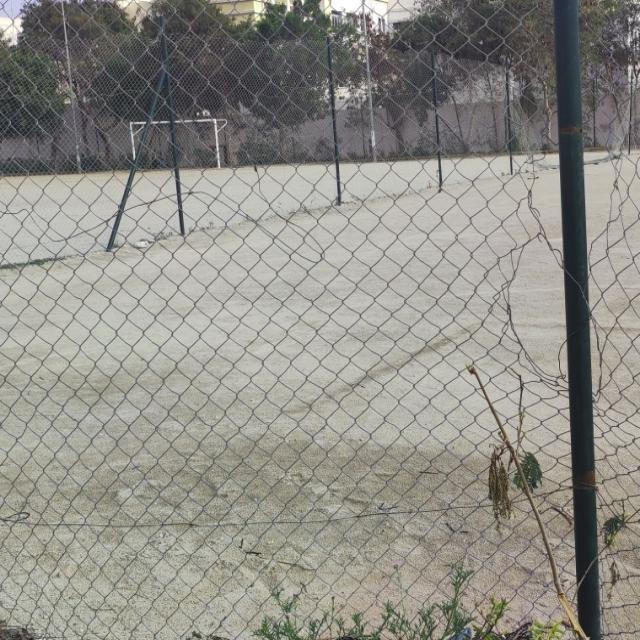fence line: (501, 251, 613, 388), (521, 138, 619, 239)
